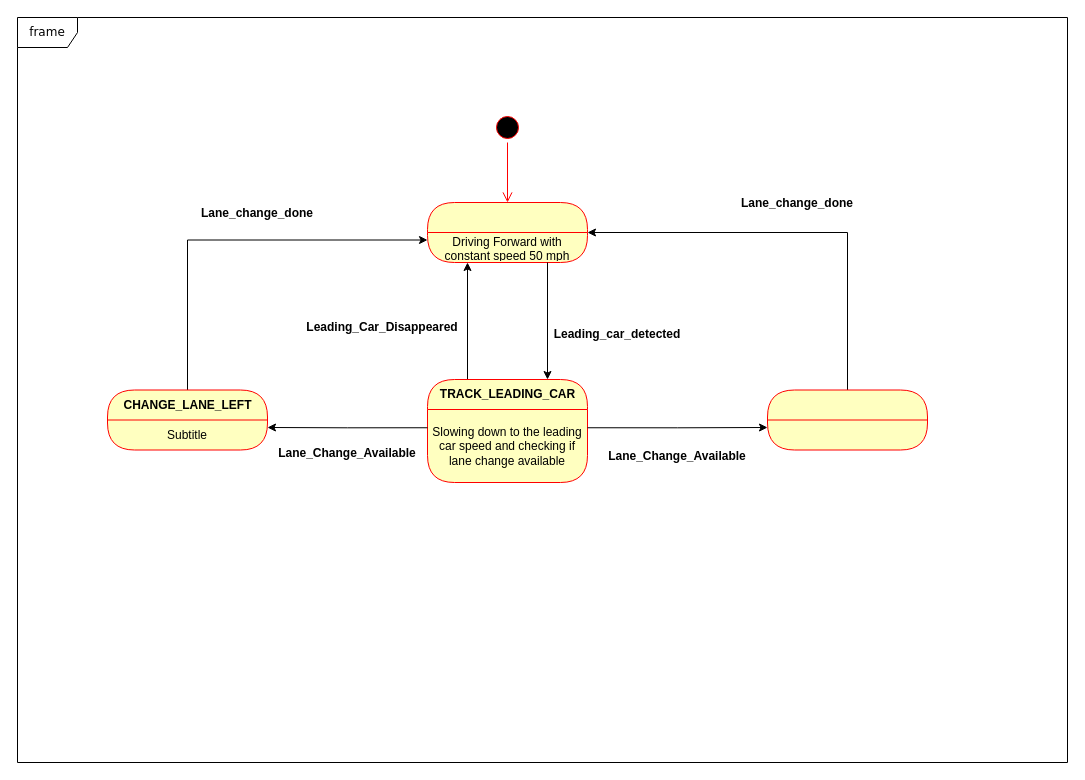
The diagram is 1085 pixels wide and 780 high, and some of its shapes have lost their labels. The box of each missing label's shape, as (x1, y1, x2, y2) in pixels:
CHANGE_LANE_RIGHT: (766, 389, 928, 450)
DRIVE_FORWARD: (426, 202, 588, 262)
